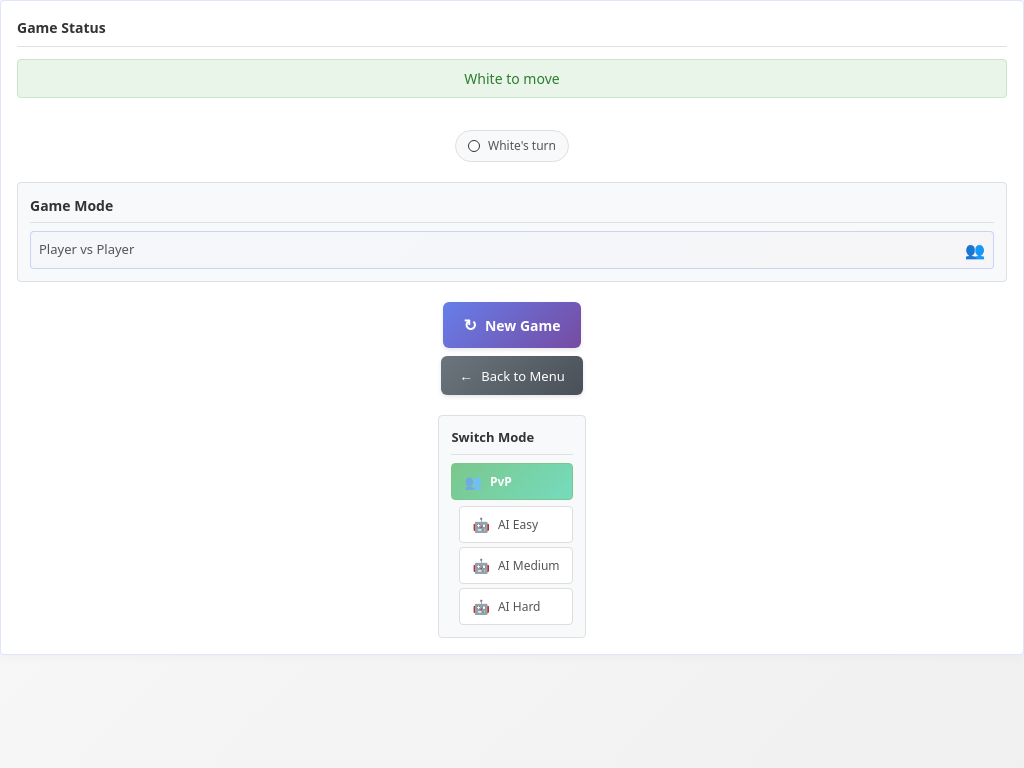
Test case: GameControls Enhanced Mode Switching › Mode Change During Game › shows confirmation dialog when changing mode during active game
The image size is (1024, 768).
Step 1. Click the button with aria-label "Switch to AI mode - Easy difficulty" → (516, 524), box 460,506 -> 573,542
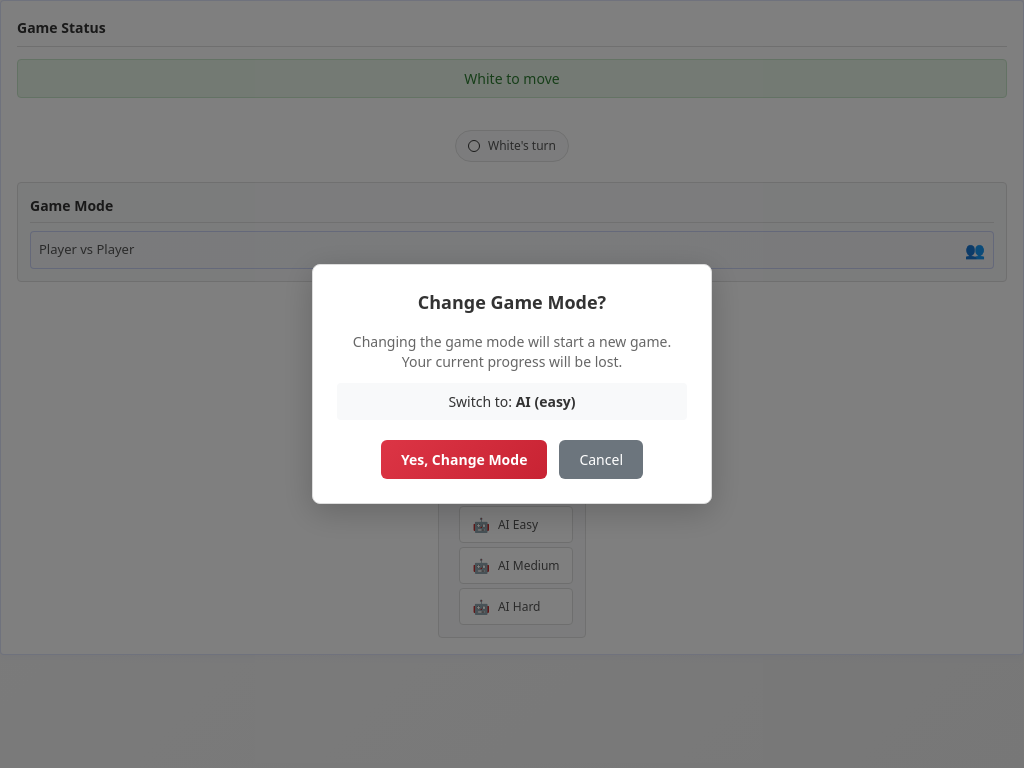
Check: the heading "Change Game Mode?" is shown, box 418,290 -> 606,314
Check: the text "Changing the game mode will start a new game. Your current progress will be lost." is shown, box 353,332 -> 671,370
Check: the text "AI (easy)" is shown, box 516,392 -> 576,411
